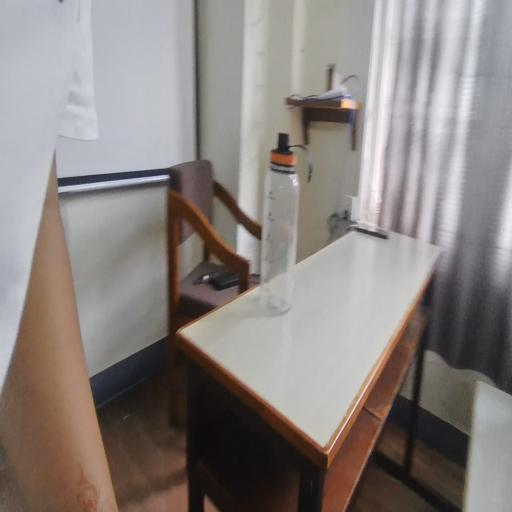Bottle: (258, 131, 323, 311)
